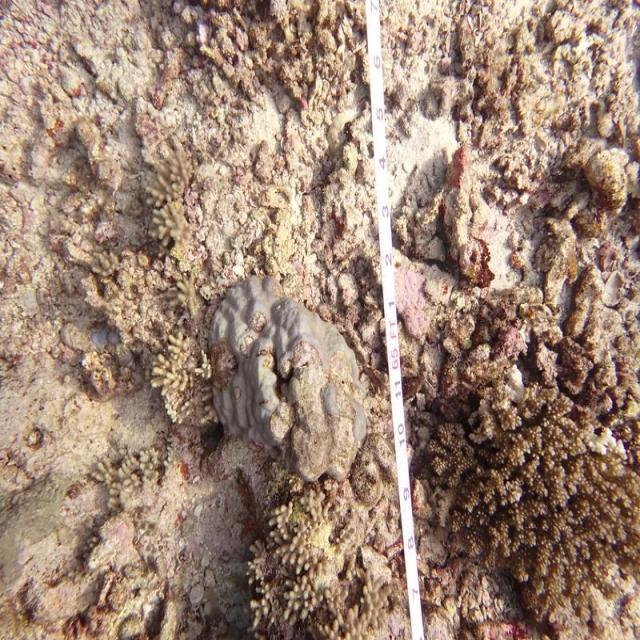Healthy Coral: (445, 363, 631, 604), (199, 263, 359, 466)
